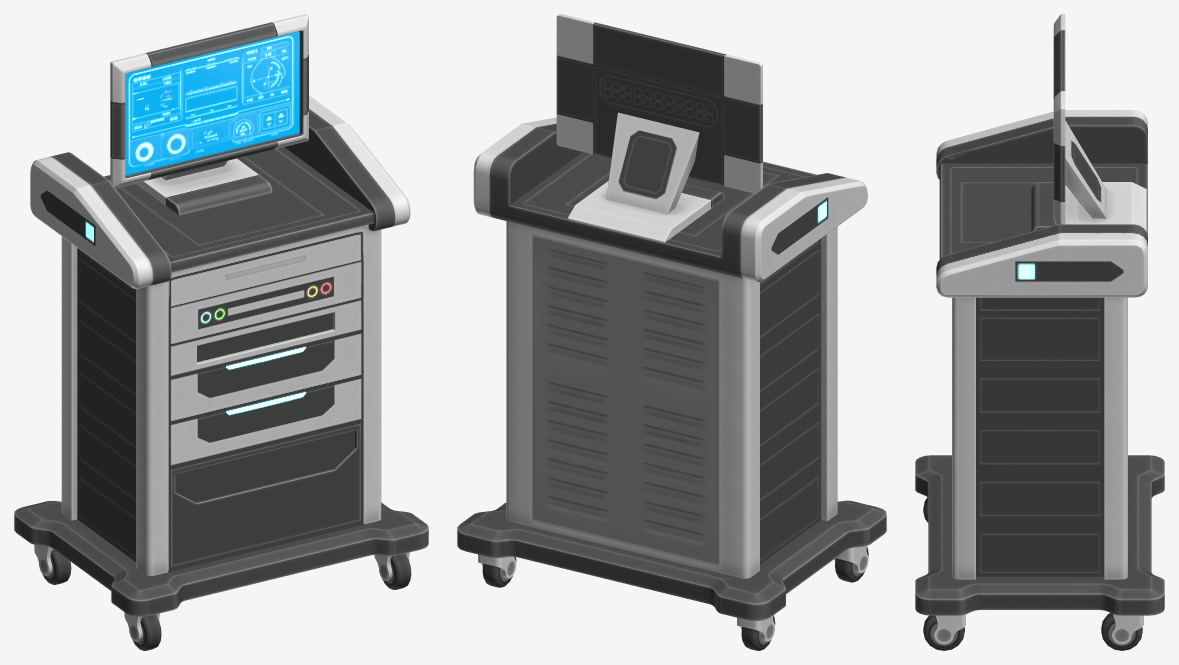
Rendered from MedMobileTerminal02.FBX.
3 renders of one model, left to right at view 1: azimuth 30°, elevation 25°; view 2: azimuth 150°, elevation 25°; view 3: azimuth 270°, elevation 25°, orthographic. The views are drawn at different scales.
Visible parts, largest first — view 1: MedMobileTerminal02; view 2: MedMobileTerminal02; view 3: MedMobileTerminal02.
Part boxes in pixels (x1=…): MedMobileTerminal02: x1=14, y1=14, x2=428, y2=650; MedMobileTerminal02: x1=457, y1=14, x2=886, y2=650; MedMobileTerminal02: x1=915, y1=14, x2=1164, y2=650.
Size of what is drawn, in the model's own units: 0.8652 by 1.47 by 0.6317.
